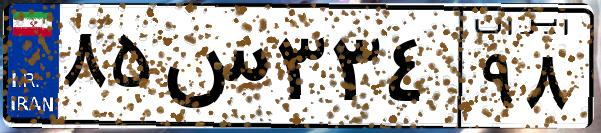3: (270, 28, 330, 110), (330, 28, 385, 110)
4: (385, 28, 445, 110)
5: (110, 28, 158, 98)
8: (57, 26, 110, 100), (525, 38, 570, 115)
9: (475, 38, 525, 113)
س: (158, 20, 270, 120)
